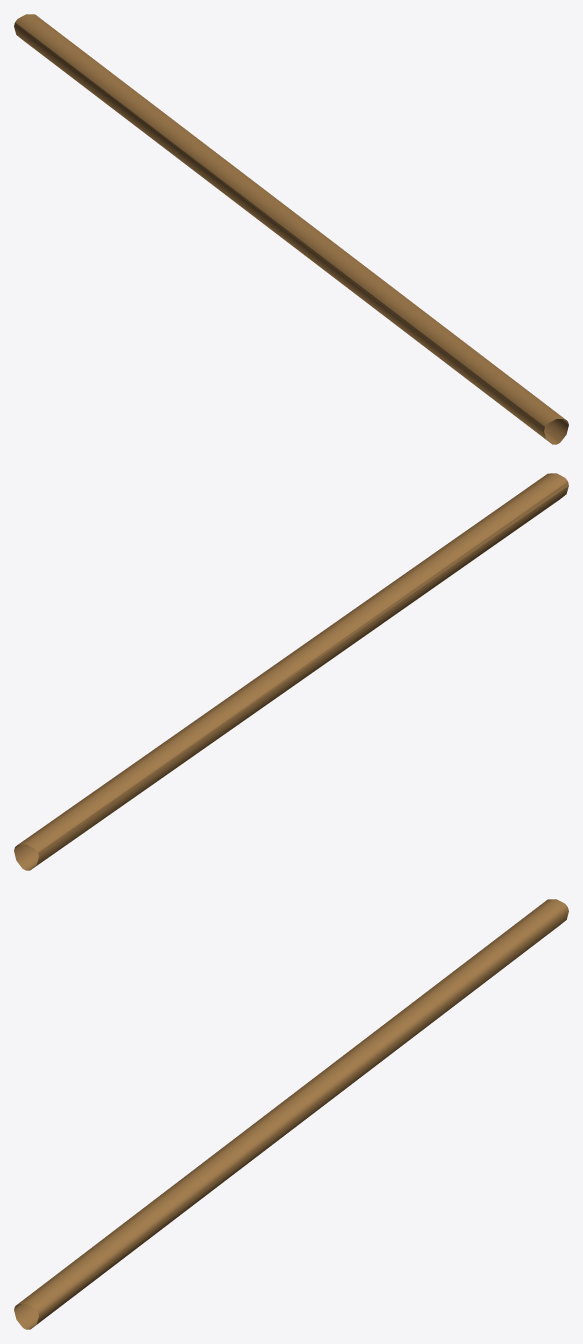
The model's file is original-3.obj.
The picture shows the model from 3 angles, top to bottom: view 1: azimuth 30°, elevation 25°; view 2: azimuth 150°, elevation 25°; view 3: azimuth 330°, elevation 25°; orthographic projection.
Parts seen in each view (by area): view 1: mesh3/mesh3-geometry#mesh3-geometry; view 2: mesh3/mesh3-geometry#mesh3-geometry; view 3: mesh3/mesh3-geometry#mesh3-geometry.
Boxes of the visible parts, x1,y1,x2,y2 form: mesh3/mesh3-geometry#mesh3-geometry: [14, 14, 568, 444]; mesh3/mesh3-geometry#mesh3-geometry: [14, 473, 568, 870]; mesh3/mesh3-geometry#mesh3-geometry: [14, 899, 568, 1329].
Size of the model in its own units: 0.0228 by 0.0374 by 0.8379.
